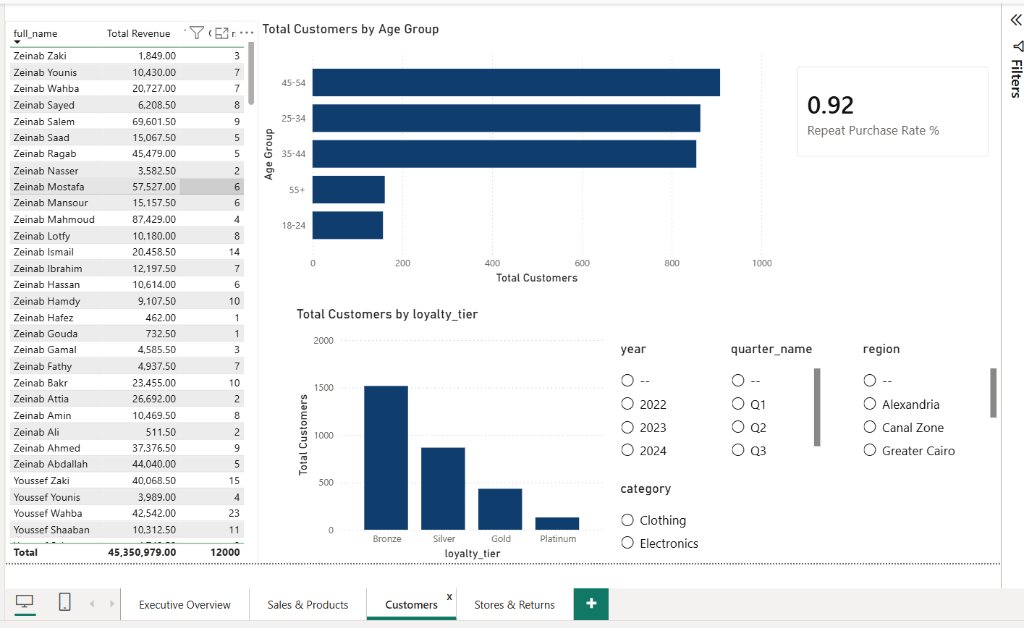

This screenshot's page, from the dashboard's own definition file:
{"tool":"powerbi","page":{"name":"Customers","canvas":[1280,720],"ordinal":2},"visuals":[{"type":"columnChart","fields":{"Category":["dim_customers.loyalty_tier"],"Y":["fact_orders.Total Customers"]},"box":[369.8,388.2,405.1,331.7],"z":0},{"type":"clusteredBarChart","fields":{"Category":["dim_customers.Age Group"],"Y":["fact_orders.Total Customers"]},"box":[326.1,22.6,664.8,343],"z":1000},{"type":"cardVisual","fields":{"Data":["fact_orders.Repeat Purchase Rate %"]},"box":[1000.8,63.5,280,150],"z":2000},{"type":"tableEx","fields":{"Values":["dim_customers.full_name","fact_orders.Total Revenue","fact_orders.Total Orders"]},"box":[0,22.6,326.1,697.3],"z":3000},{"type":"listSlicer","fields":{"Values":["dim_date.year"]},"box":[786.2,433.3,93.2,163.7],"z":4000},{"type":"listSlicer","fields":{"Values":["dim_date.quarter_name"]},"box":[927.4,433.3,125.6,163.7],"z":5000},{"type":"listSlicer","fields":{"Values":["dim_customers.region"]},"box":[1098.2,433.3,182.1,163.7],"z":6000},{"type":"listSlicer","fields":{"Values":["dim_products.category"]},"box":[786.2,612.6,299.3,103],"z":7000}]}

Visuals, with their boxes on the page's 1280x720 design canvas (x1, y1, x2, y2). These are canvas units, not pixel positions in the 1024x628 screenshot, which may show the page scaled, cropped or inside an application window:
columnChart - dim_customers.loyalty_tier x fact_orders.Total Customers: l=370, t=388, r=775, b=720
clusteredBarChart - dim_customers.Age Group x fact_orders.Total Customers: l=326, t=23, r=991, b=366
cardVisual - fact_orders.Repeat Purchase Rate %: l=1001, t=64, r=1281, b=214
tableEx - dim_customers.full_name x fact_orders.Total Revenue: l=0, t=23, r=326, b=720
listSlicer - dim_date.year: l=786, t=433, r=879, b=597
listSlicer - dim_date.quarter_name: l=927, t=433, r=1053, b=597
listSlicer - dim_customers.region: l=1098, t=433, r=1280, b=597
listSlicer - dim_products.category: l=786, t=613, r=1086, b=716
